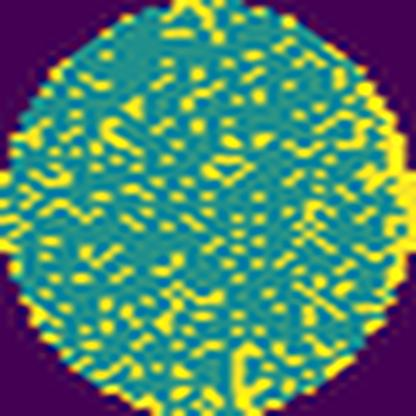Edge-Loc: (355, 60, 416, 334)
